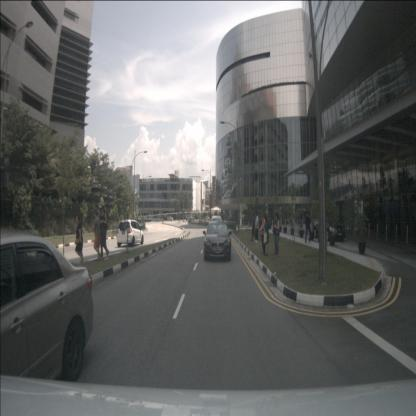human-pedestrian-adult: (100, 205, 110, 260), (92, 210, 102, 262), (74, 215, 84, 263), (99, 207, 107, 259), (272, 212, 280, 258), (262, 215, 269, 256), (304, 210, 312, 244), (260, 214, 266, 255), (251, 213, 257, 242), (254, 212, 259, 243)
vehicle-car: (0, 226, 94, 383), (204, 221, 231, 262), (311, 213, 346, 243), (116, 219, 144, 248), (210, 216, 222, 234)
